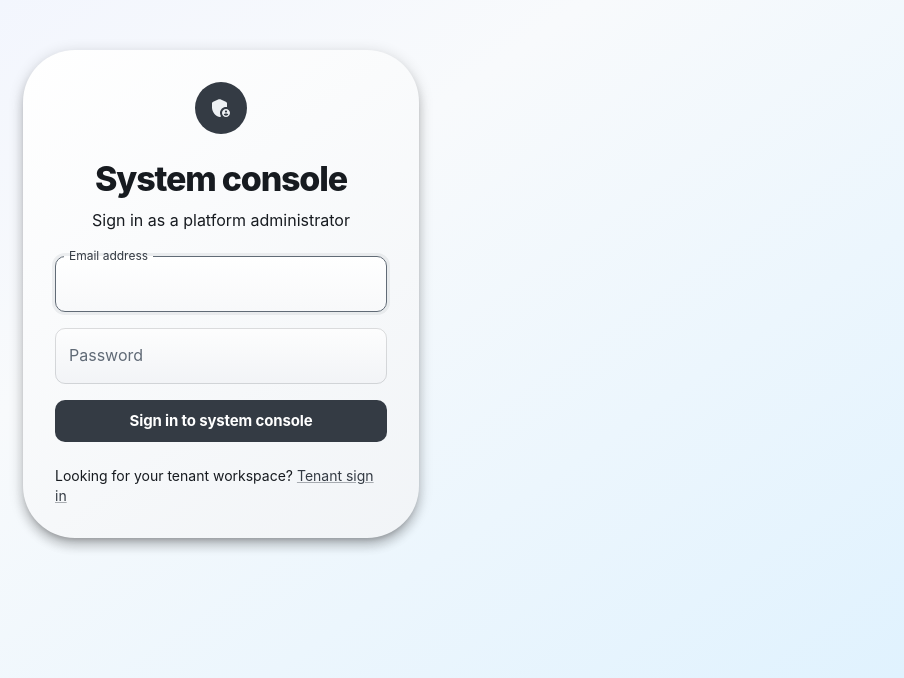
Test case: SystemLoginPage › renders authentication errors without changing route
This screenshot has width=904, height=678.
In the field labelled "Email address": (221, 284) [55,256,387,312], type "owner@example.com"
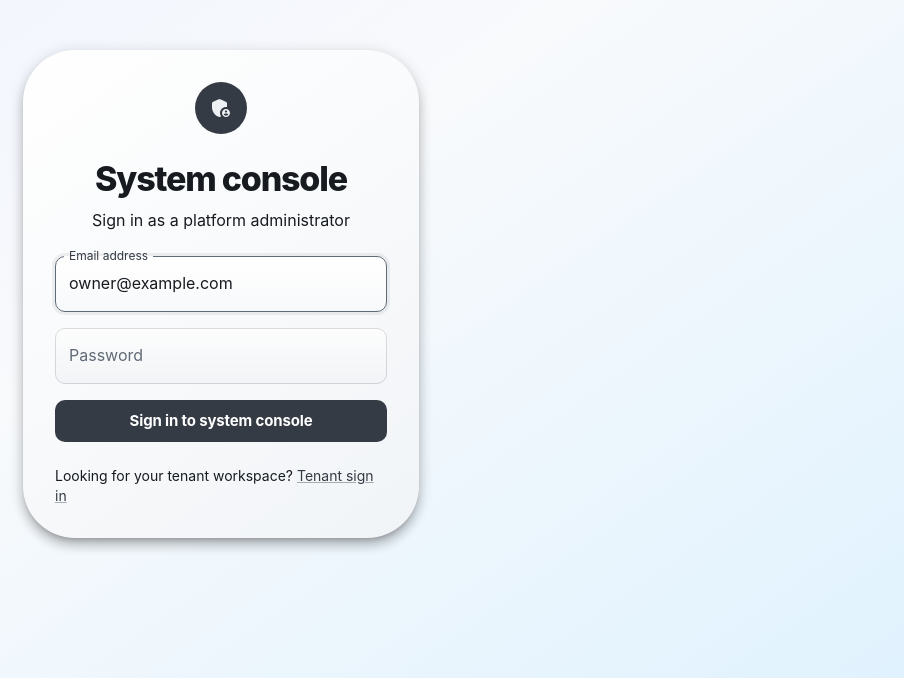
In the password field labelled "Password": (221, 356) [55,328,387,384], type "Wrong@123"
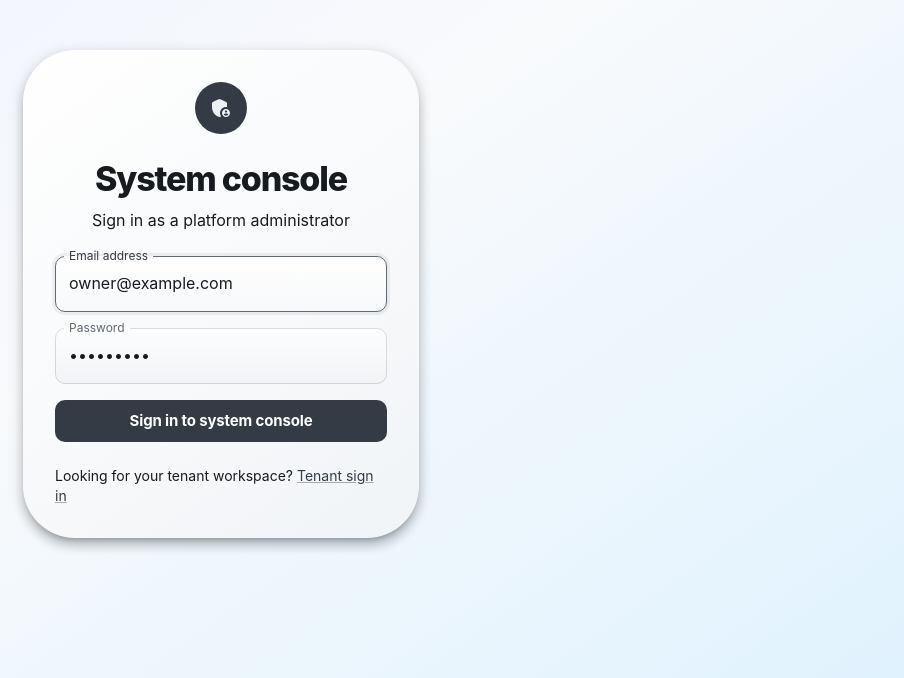
Click the button "Sign in to system console": click(221, 421) [55,400,387,442]
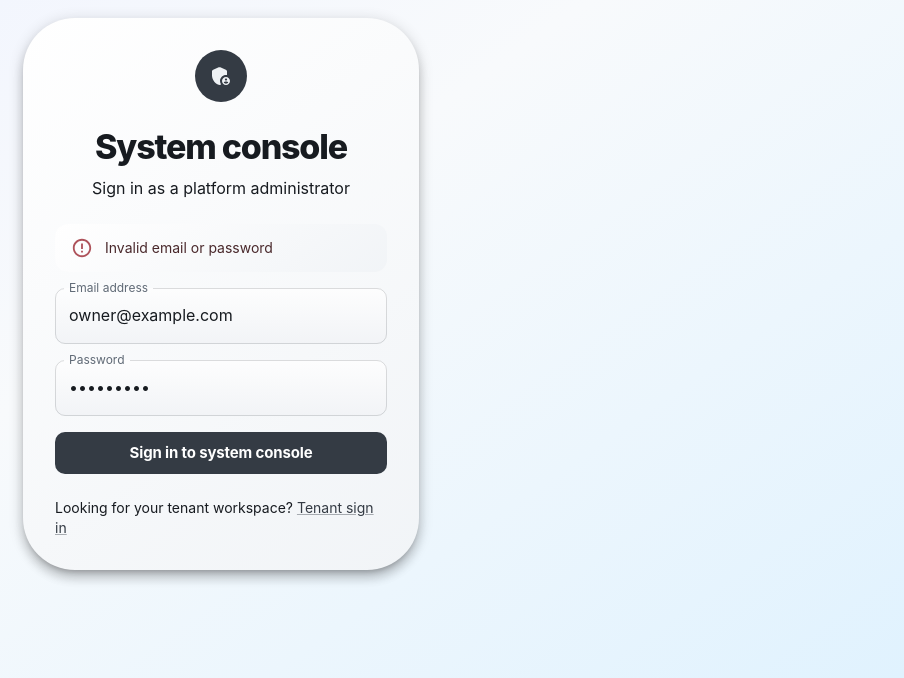
Expected: the heading "System console" is shown, [92,126,350,168]
Now the text "Invalid email or password" is shown, box [105,239,273,256]
